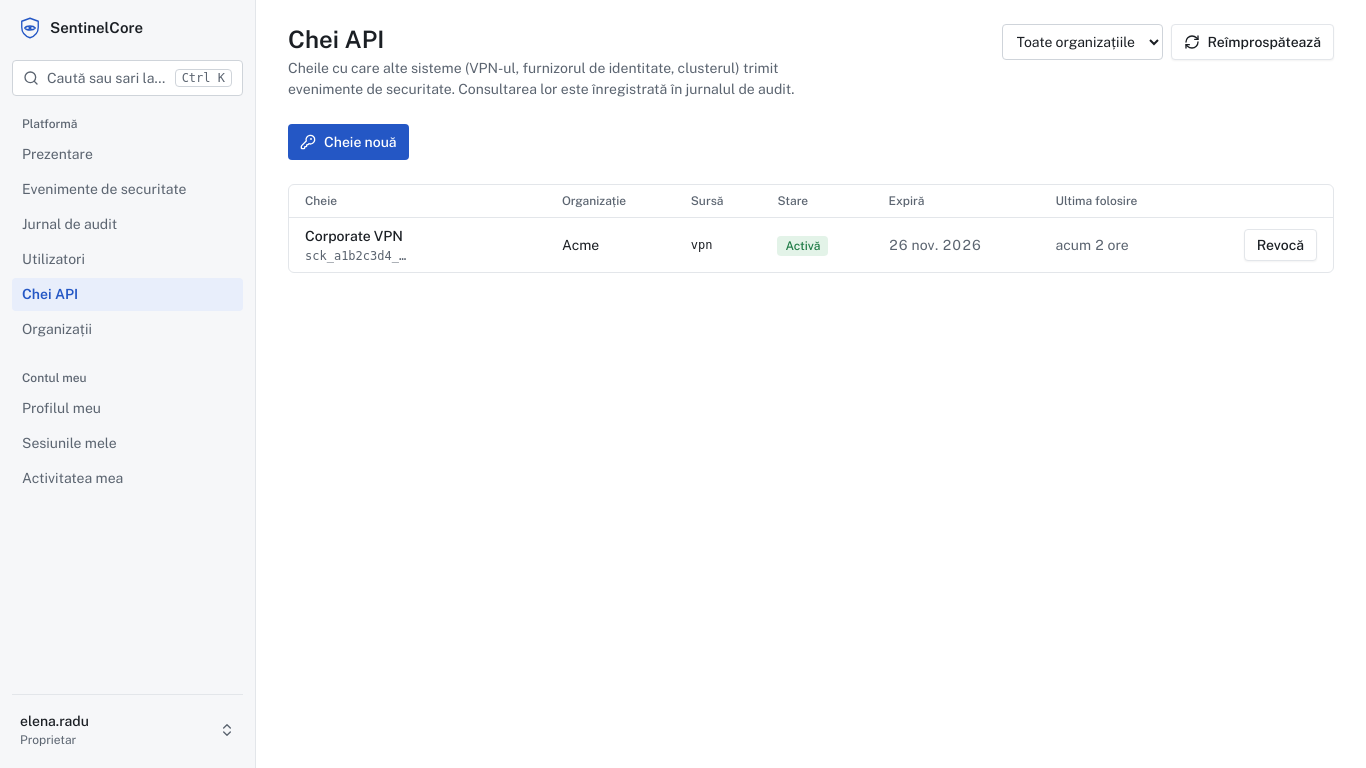
Test: organization API keys page › checks the name and source before sending them
Click the button "Cheie nouă": (348, 142) [288,124,409,160]
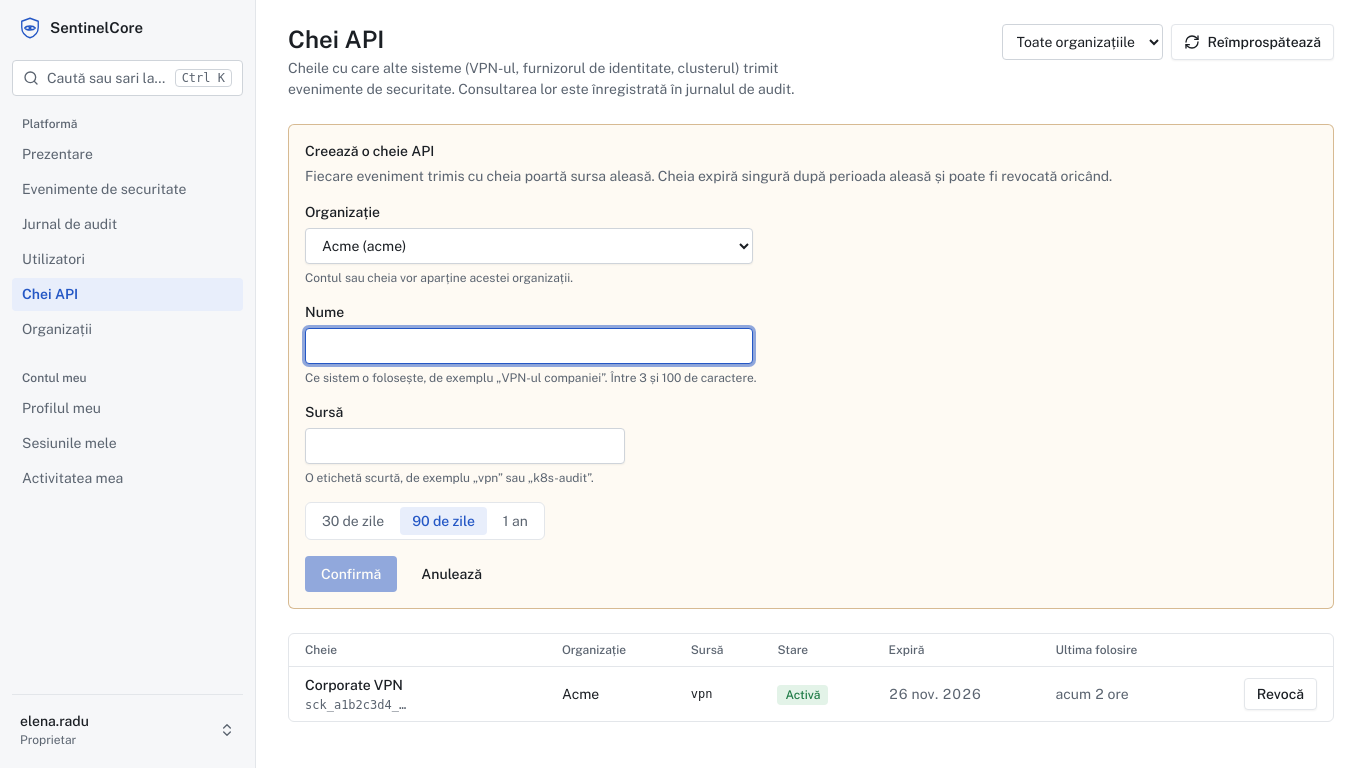
In the field labelled "Nume": (529, 346) [305,328,753,364], type "ab"
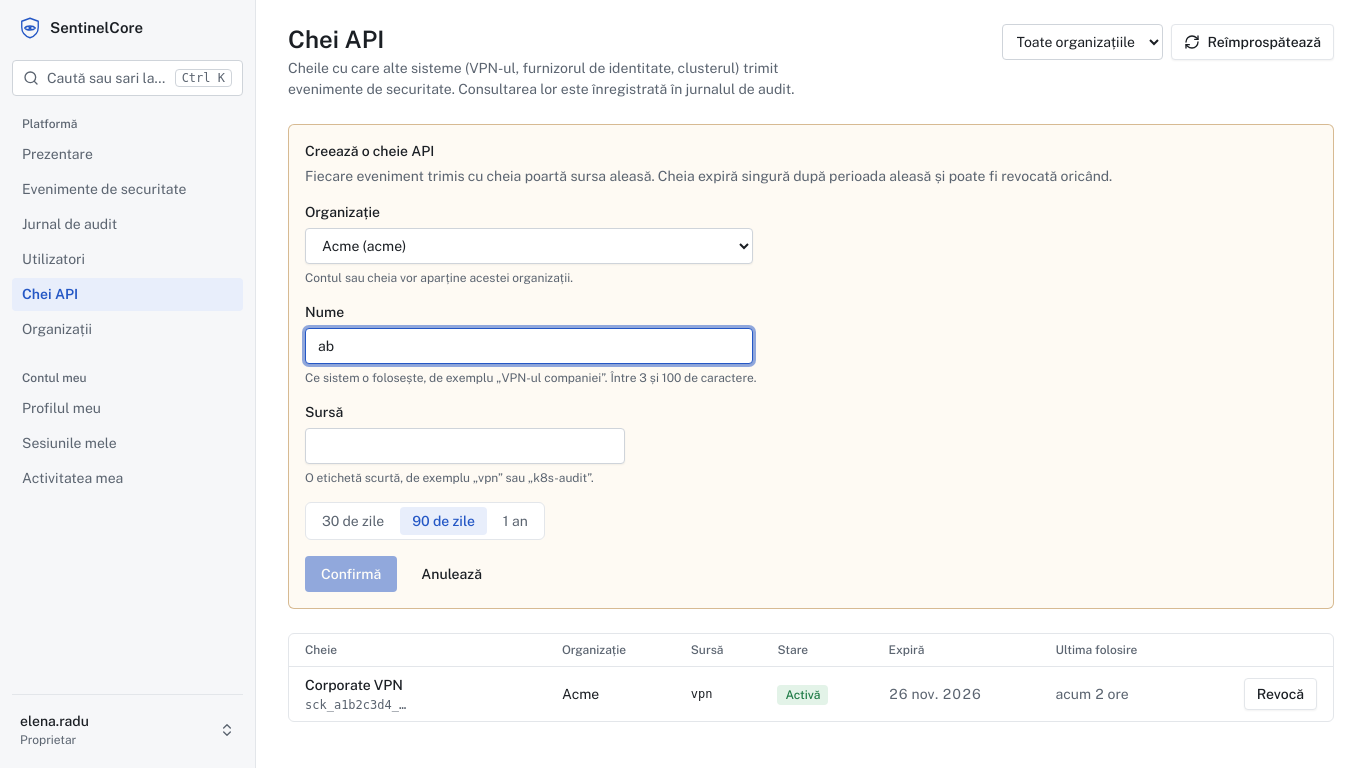
In the field labelled "Sursă": (465, 446) [305,428,625,464], type "vpn"
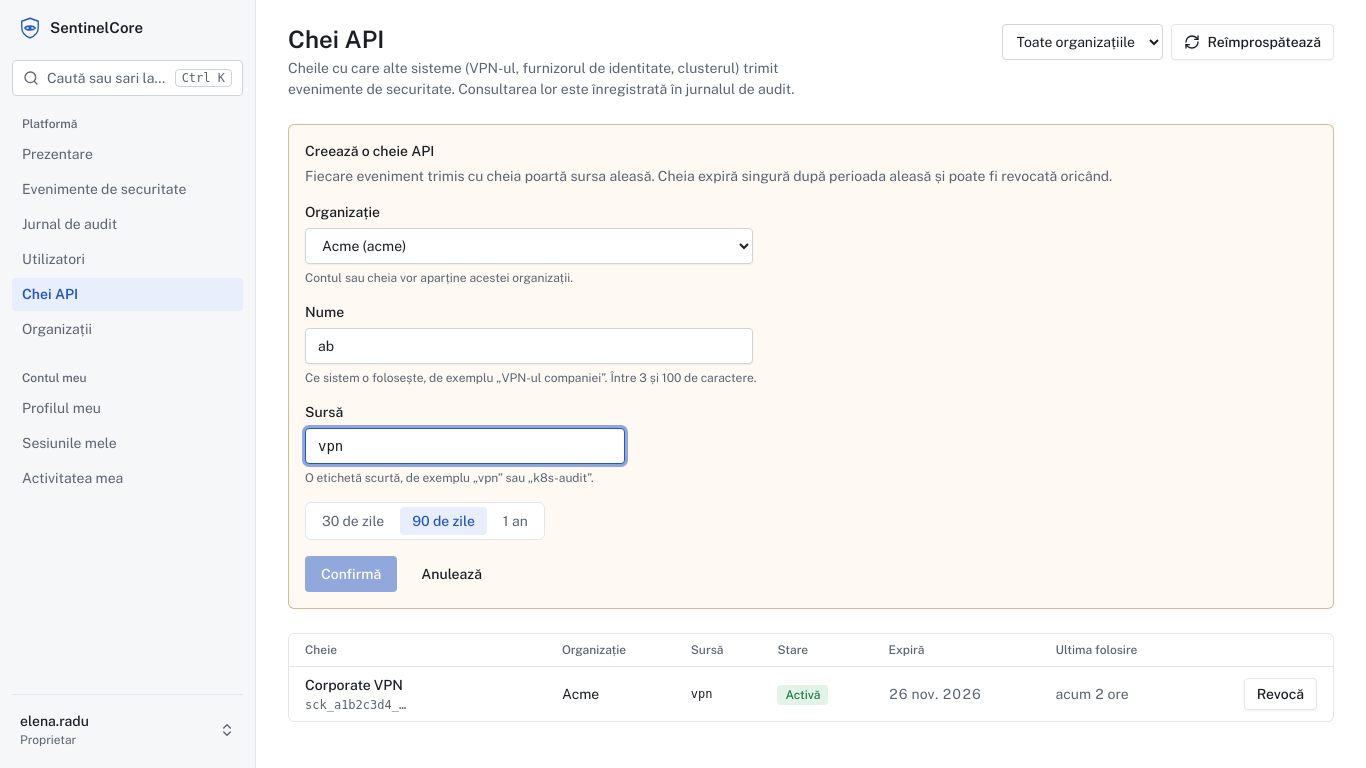
Expected: the button "Confirmă" is disabled, [305,556,397,592]
In the field labelled "Nume": (529, 346) [305,328,753,364], type "c"
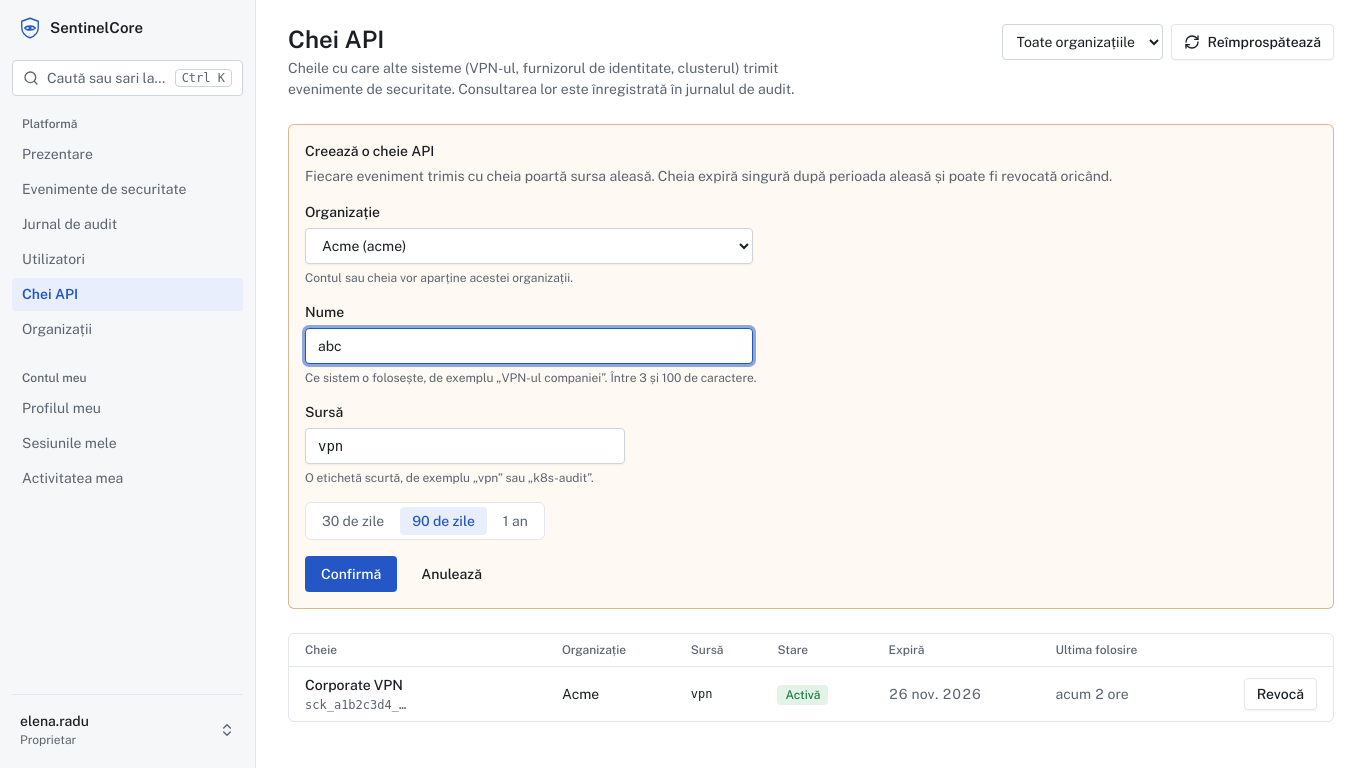
Expected: the button "Confirmă" is enabled, [305,556,397,592]
Replace the text in the field labelled "Sursă" with "backend": (465, 446) [305,428,625,464]
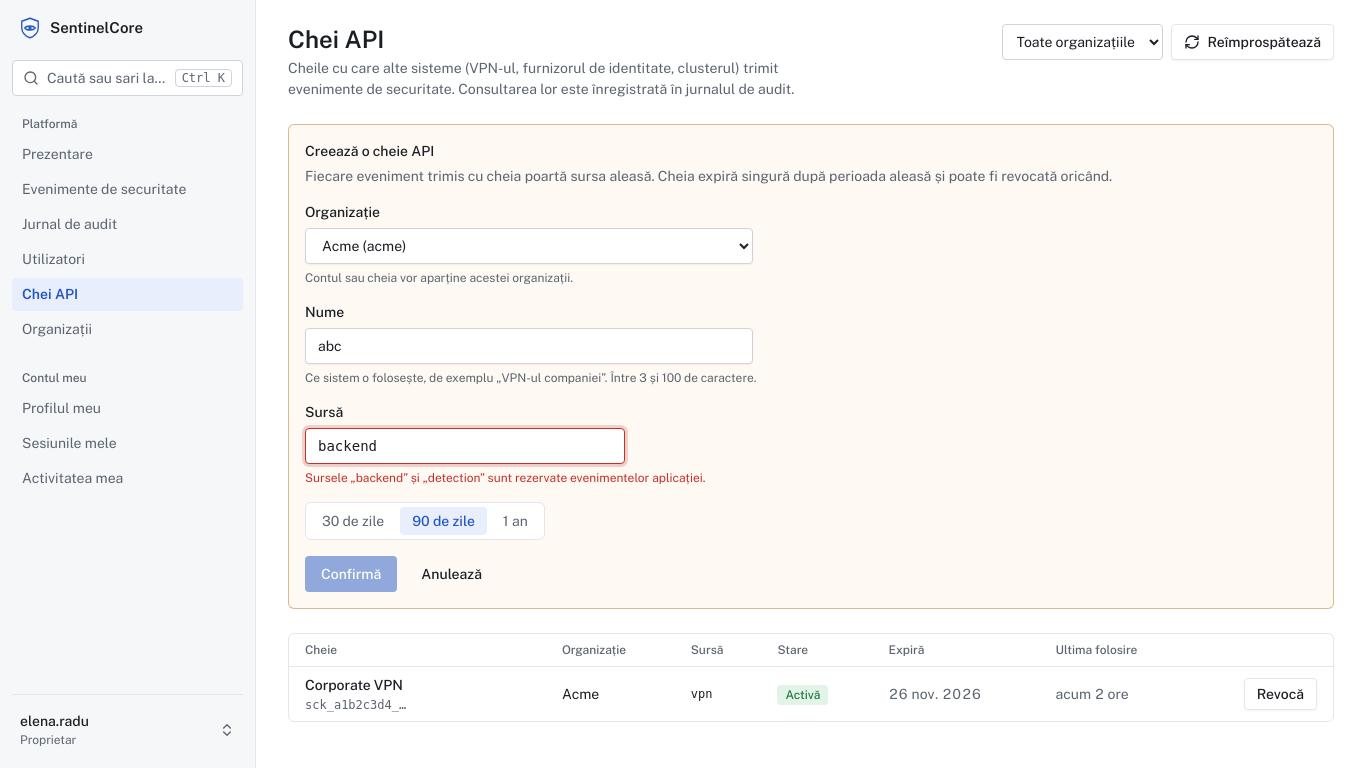
Expected: the button "Confirmă" is disabled, [305,556,397,592]
Expected: the form "Creează o cheie API" shows "Sursele „backend” și „detection” sunt rezervate", [305,471,705,485]
Replace the text in the field labelled "Sursă" with "-vpn": (465, 446) [305,428,625,464]
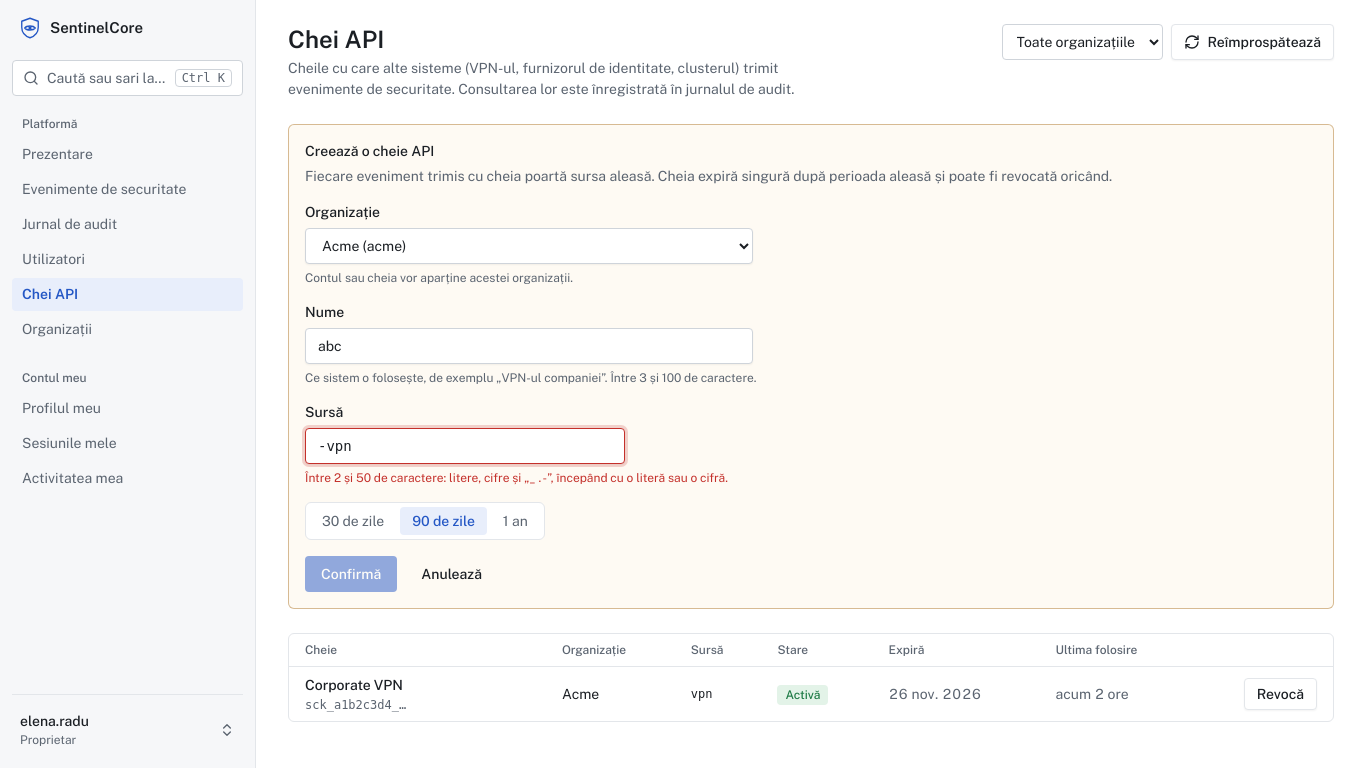
Expected: the button "Confirmă" is disabled, [305,556,397,592]
Expected: the form "Creează o cheie API" shows "Între 2 și 50 de caractere", [305,471,728,485]
